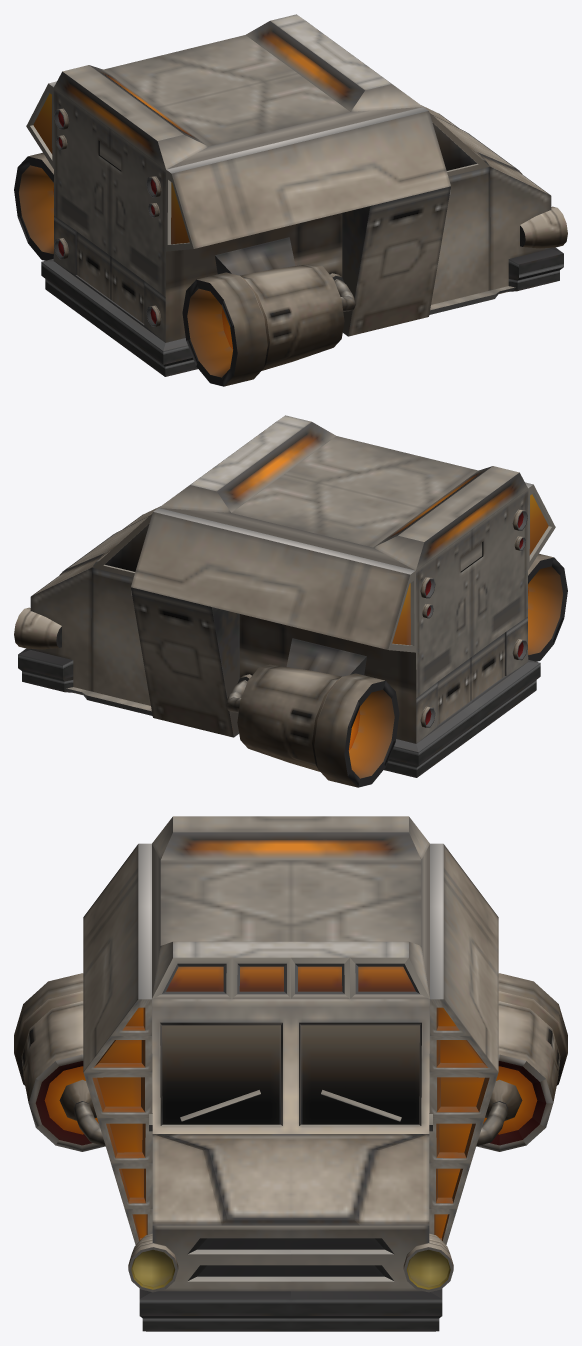
The model's file is SlimCongito.glb.
3 renders of one model, top to bottom at view 1: azimuth 30°, elevation 25°; view 2: azimuth 150°, elevation 25°; view 3: azimuth 270°, elevation 25°, orthographic. The views are drawn at different scales.
Visible parts, largest first — view 1: high_lod; view 2: high_lod; view 3: high_lod.
Part boxes in pixels (left/top/right/bottom): high_lod: left=14, top=14, right=567, bottom=386; high_lod: left=14, top=415, right=567, bottom=787; high_lod: left=14, top=816, right=567, bottom=1331.
Bounding box in the file's own units: 4.93 × 2.68 × 4.75.
1 material, 1 textured.
